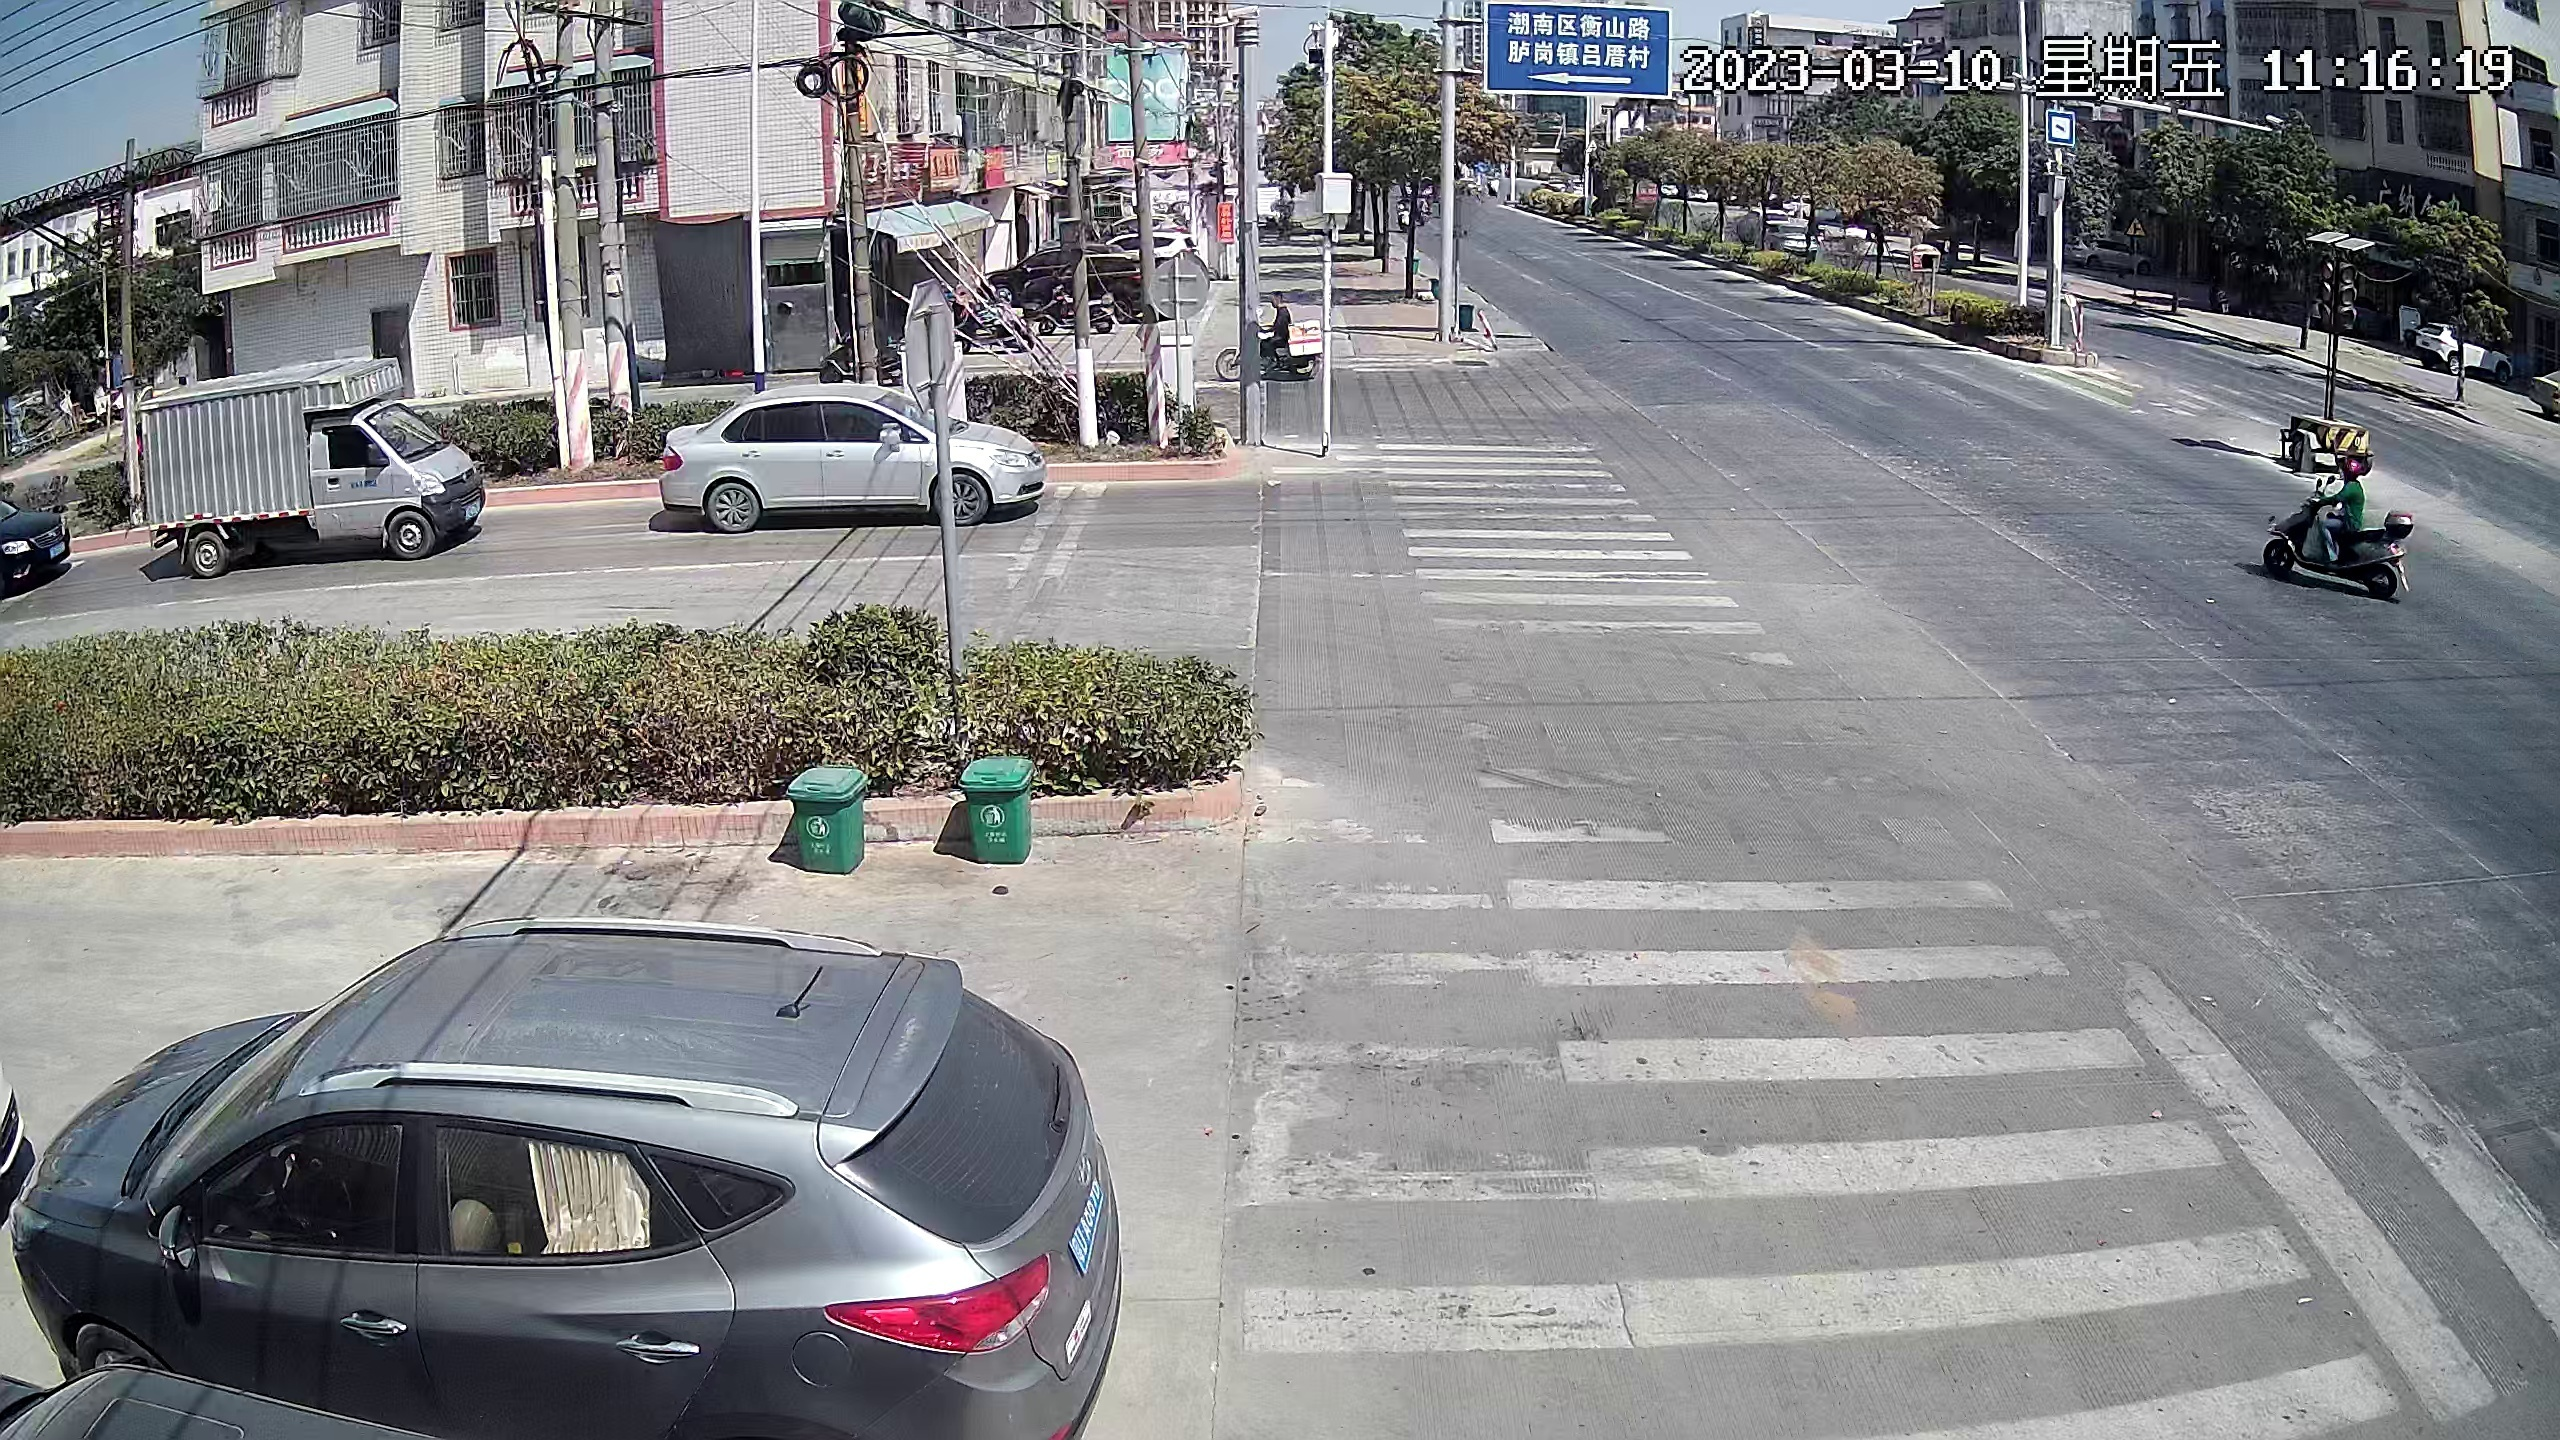motorcycle: (2273, 447, 2418, 604), (1232, 295, 1330, 392), (1030, 290, 1114, 328)
person: (2335, 452, 2369, 569)
sedan: (659, 382, 1043, 527), (1013, 245, 1159, 303), (1, 489, 75, 593), (2417, 315, 2512, 393)
suv: (28, 914, 1099, 1415)
truck: (119, 367, 484, 560)
